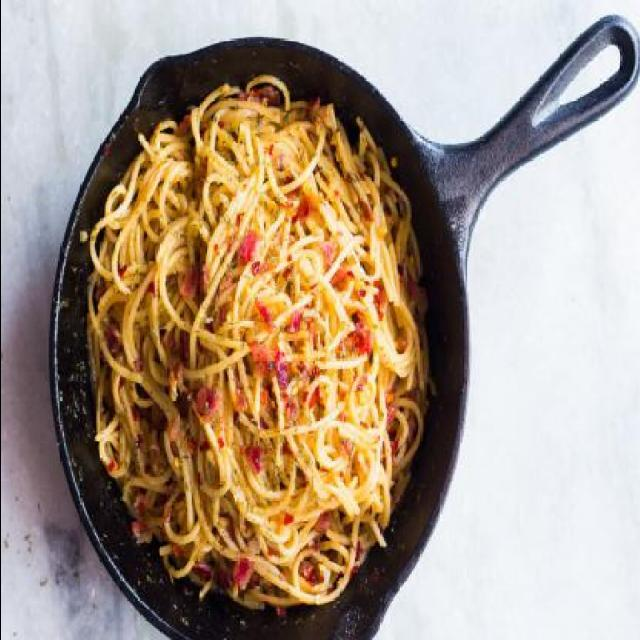Oil pasta: (58, 42, 446, 618)
